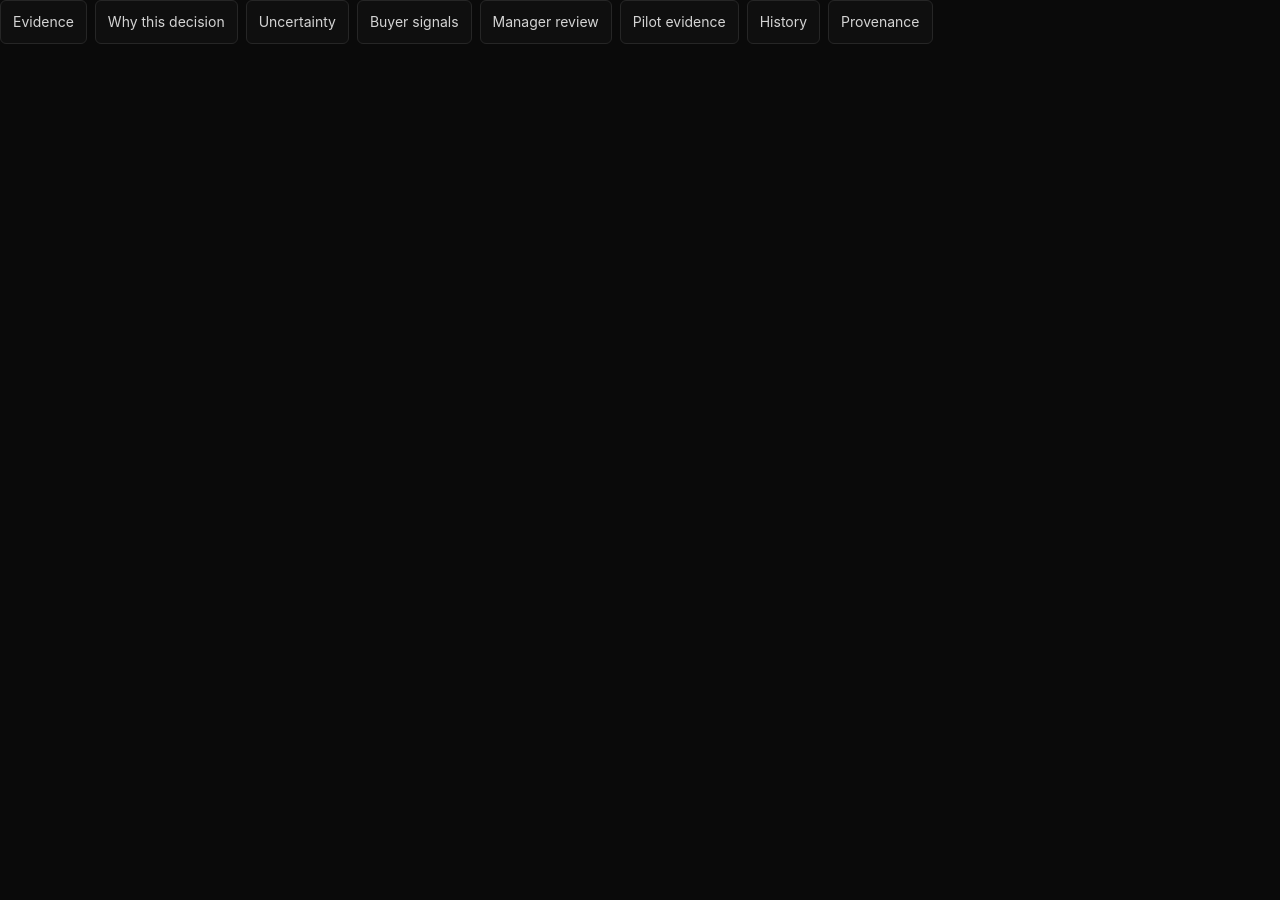
it: InspectionRail › opens the Evidence drawer showing pending evidence marked as unused in the current decision
Click the button "Evidence".
click(43, 22)  # box [0, 0, 87, 44]
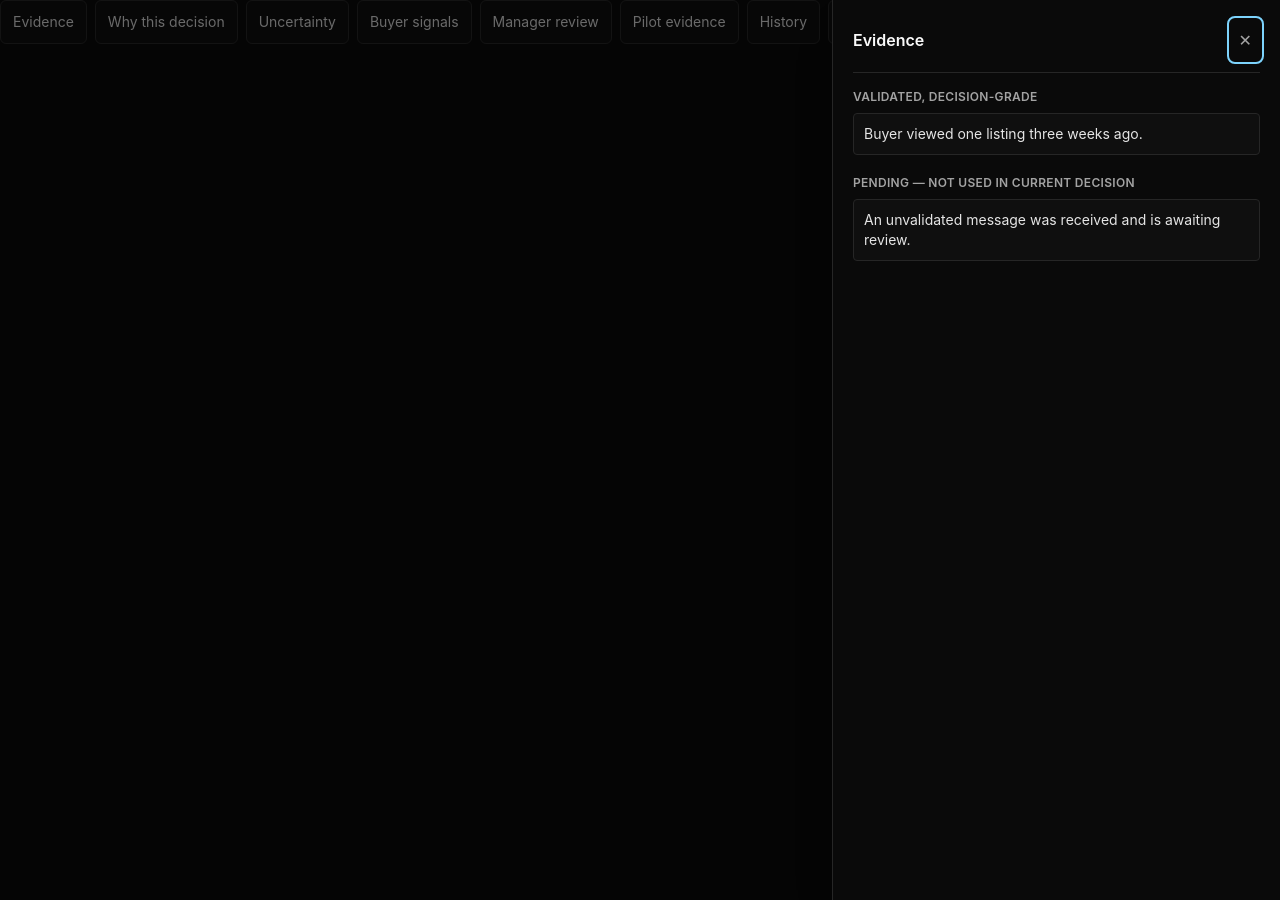
Result: the heading "Pending — not used in current decision" is shown at [853, 175, 1135, 190]
